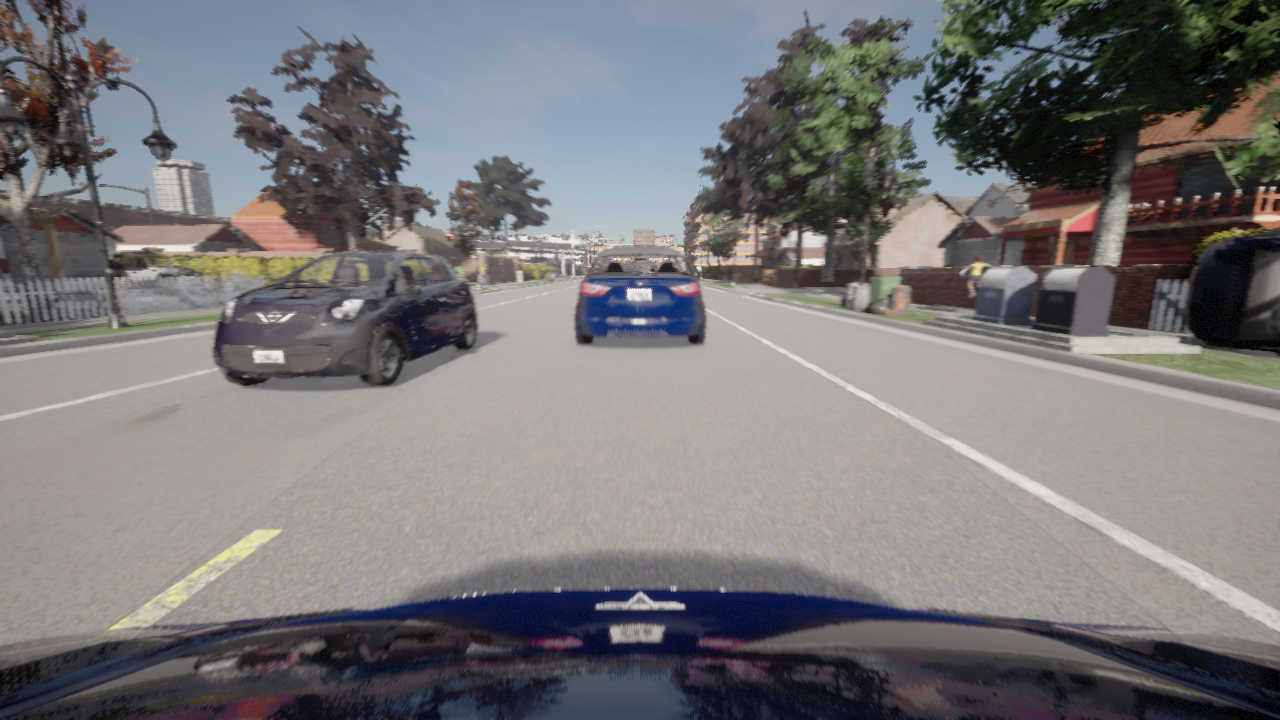cyclist: (0, 588, 1279, 719), (212, 250, 477, 385), (575, 247, 704, 344), (1186, 228, 1279, 356), (111, 253, 205, 289)
pedestrian: (961, 256, 991, 297), (478, 264, 485, 285)
